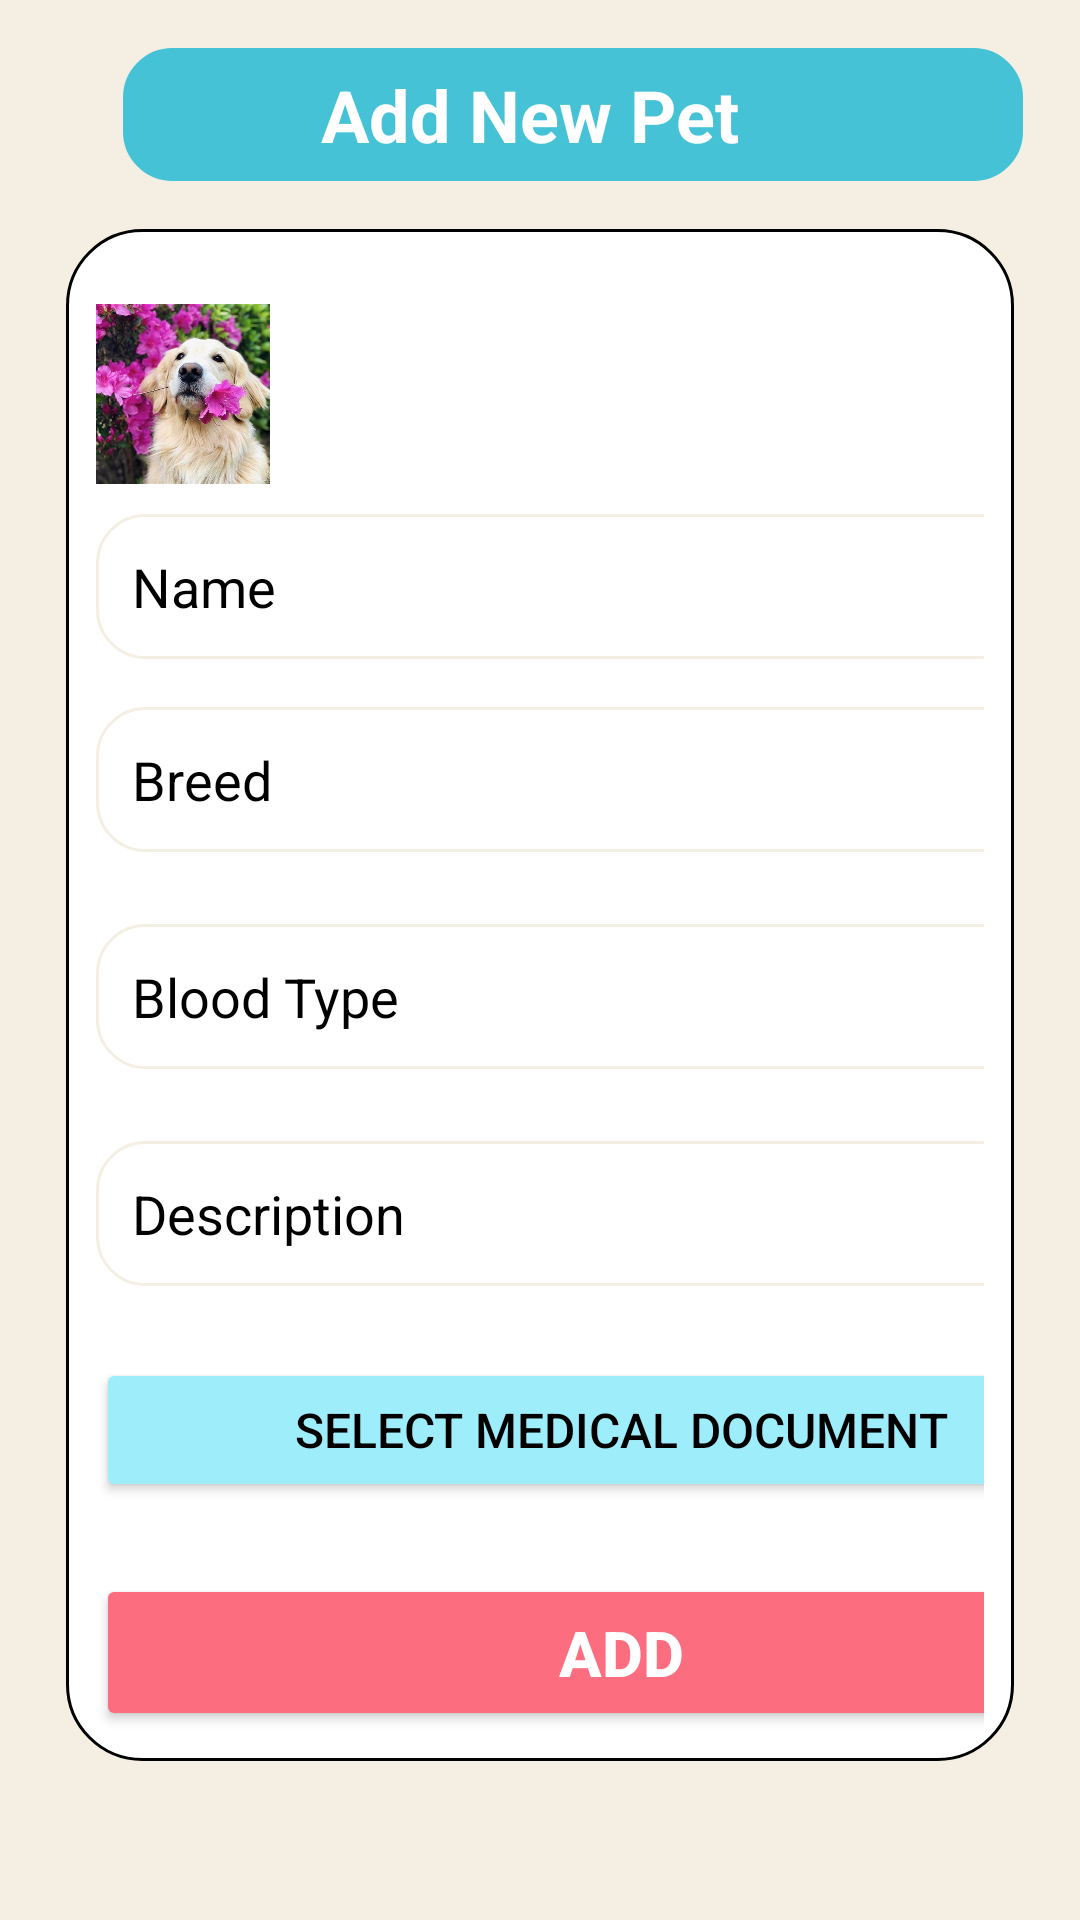

Locate icon controls on the screen. Image size 1080*1920, boxes as (x1, y1, x2, y2).
profile picture: (96, 304, 270, 484)
